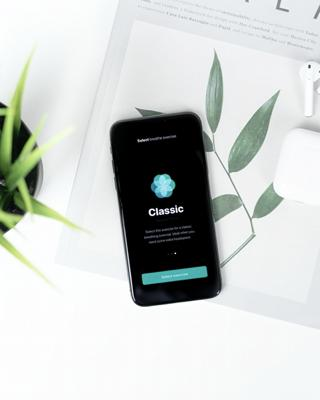Mobile Phone: (108, 110, 222, 307)
